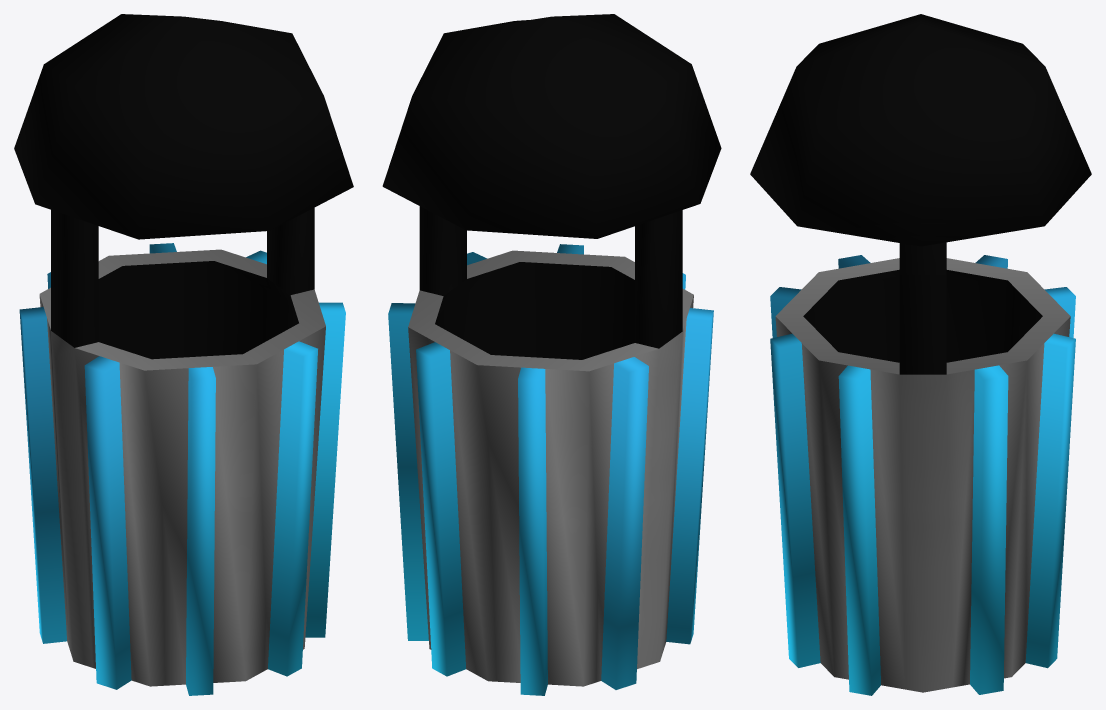
The model's file is Rubbish_3.fbx.
The picture shows the model from 3 angles, left to right: view 1: azimuth 30°, elevation 25°; view 2: azimuth 150°, elevation 25°; view 3: azimuth 270°, elevation 25°; orthographic projection.
Visible parts, largest first — view 1: Rubbish_3; view 2: Rubbish_3; view 3: Rubbish_3.
Part boxes in pixels (bbox=[...]): Rubbish_3: bbox=[14, 14, 353, 695]; Rubbish_3: bbox=[382, 14, 721, 695]; Rubbish_3: bbox=[750, 14, 1091, 695].
Size of the model in its own units: 103 by 205 by 103.
Materials: 1 (1 with a texture image).
